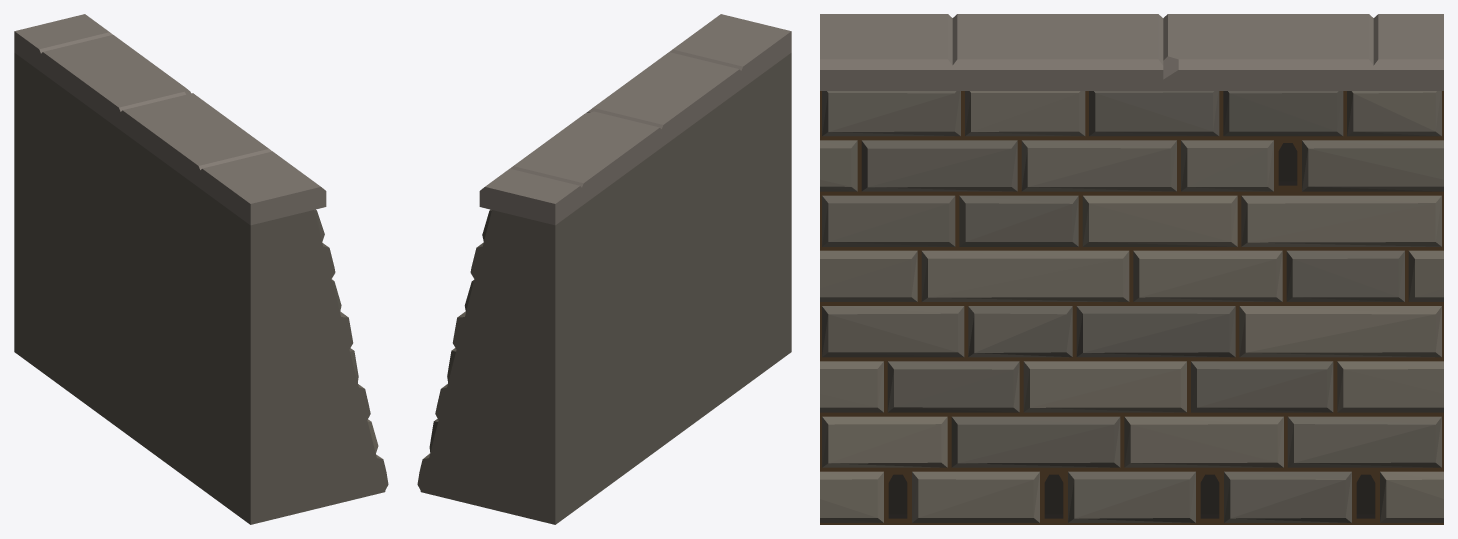
Rendered from lineside-retaining-wall-run-581cbd.glb.
The picture shows the model from 3 angles, left to right: view 1: azimuth 30°, elevation 25°; view 2: azimuth 150°, elevation 25°; view 3: azimuth 270°, elevation 25°; orthographic projection. The views are drawn at different scales.
Visible parts, largest first — view 1: lineside-retaining-wall-run-body; view 2: lineside-retaining-wall-run-body; view 3: lineside-retaining-wall-run-body.
Part boxes in pixels (x1,y1,x2,y2): lineside-retaining-wall-run-body: (14, 14, 388, 524); lineside-retaining-wall-run-body: (417, 14, 791, 524); lineside-retaining-wall-run-body: (820, 14, 1443, 524).
Size of the model in its own units: 1.37 by 3 by 4.
